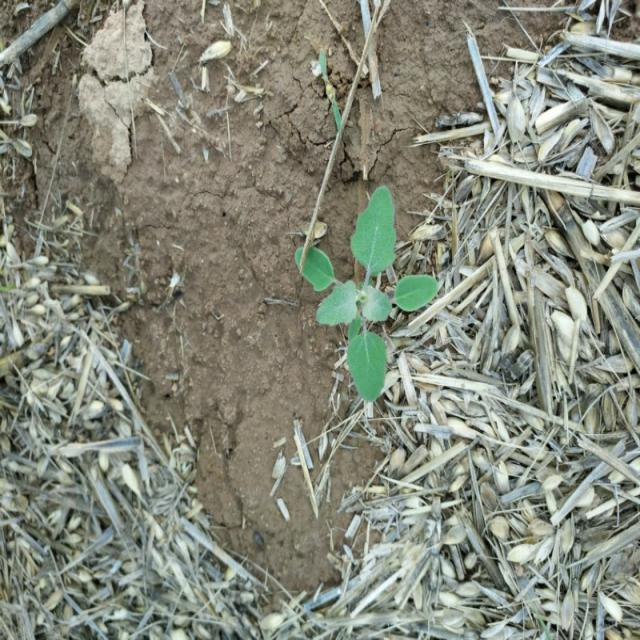goosefoots: (292, 179, 426, 416)
